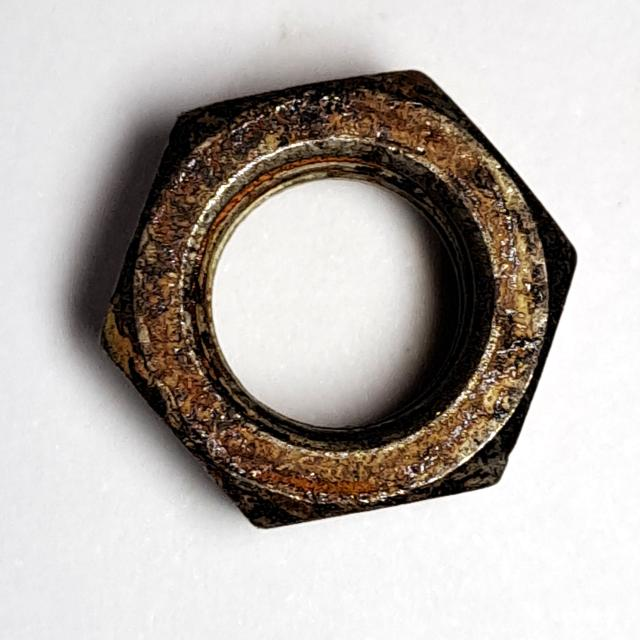Rust: (87, 53, 589, 545)
